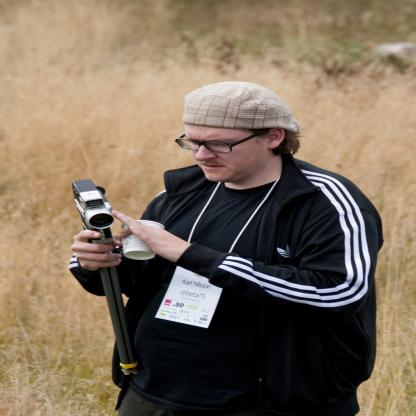Camera: (69, 180, 116, 248)
